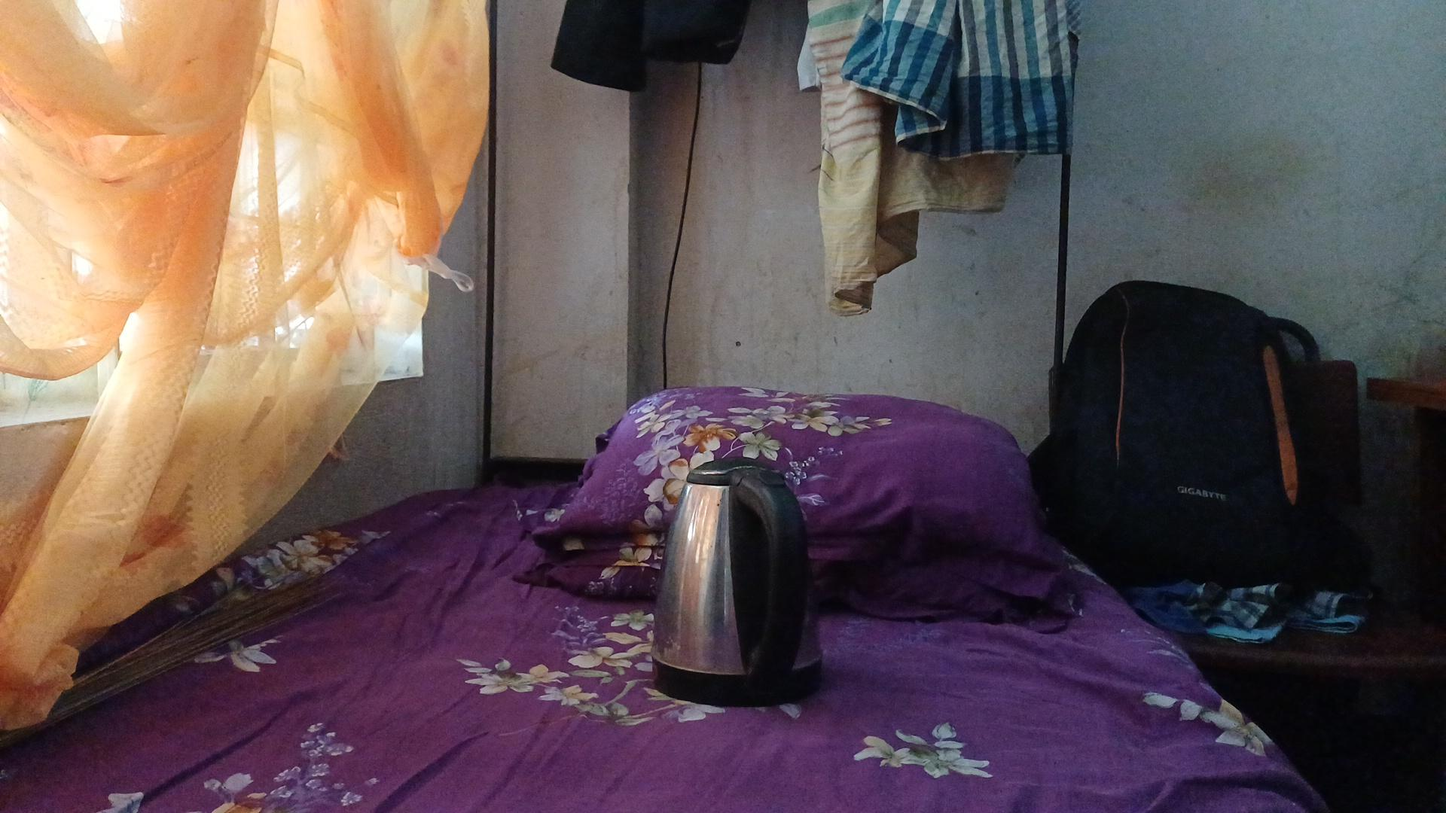Bag: (1028, 262, 1363, 614)
Kettle: (647, 453, 831, 693)
Pillow: (542, 365, 1054, 629)
